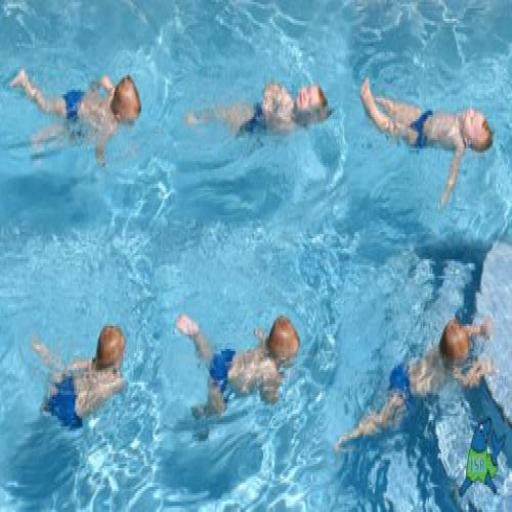swimming: (332, 309, 496, 458), (358, 73, 494, 213), (172, 307, 301, 435), (6, 63, 142, 169), (29, 320, 128, 434), (183, 75, 333, 144)
